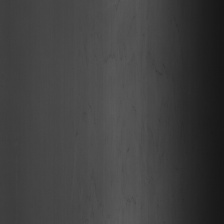silk_spot: (97, 35, 176, 103), (108, 131, 166, 208)
